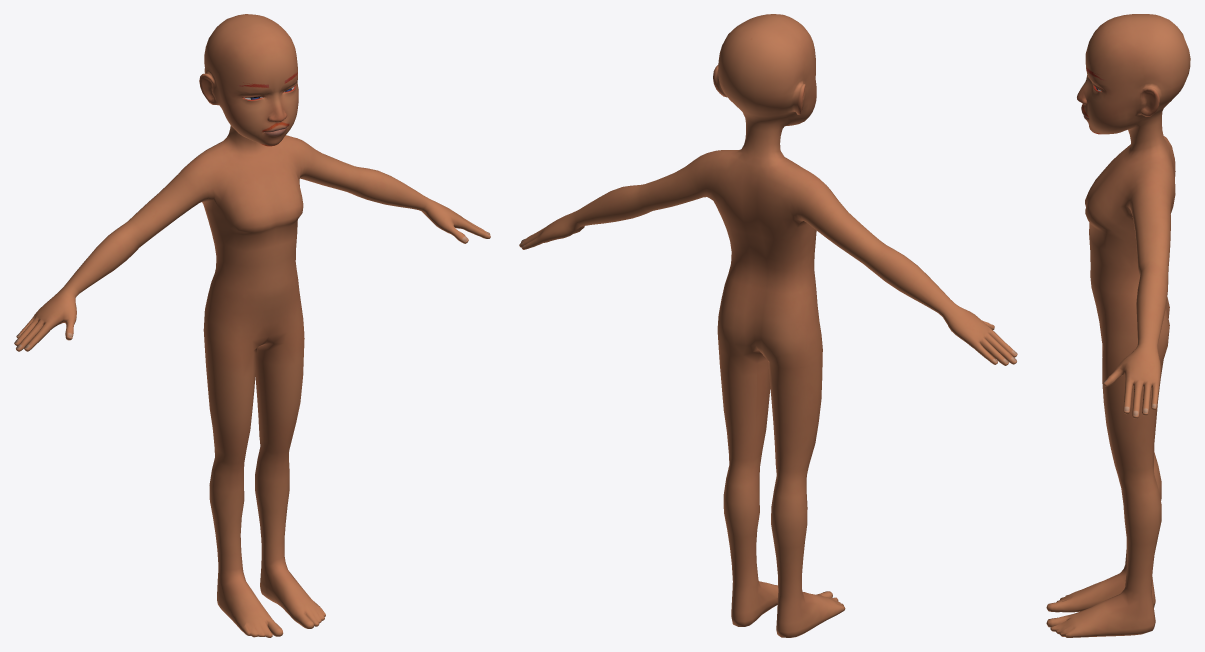
The model's file is frame_0060.glb.
The picture shows the model from 3 angles, left to right: view 1: azimuth 30°, elevation 25°; view 2: azimuth 150°, elevation 25°; view 3: azimuth 270°, elevation 25°; orthographic projection. The views are drawn at different scales.
Visible parts, largest first — view 1: frame_0060_head_geo; view 2: frame_0060_head_geo; view 3: frame_0060_head_geo.
Boxes of the visible parts, box(x1,y1,x2,y2) form: frame_0060_head_geo: box(14, 14, 490, 637); frame_0060_head_geo: box(519, 14, 1017, 637); frame_0060_head_geo: box(1046, 14, 1190, 637).
Bounding box in the file's own units: 1.28 × 1.5 × 0.3253.
3 materials, 3 textured.
